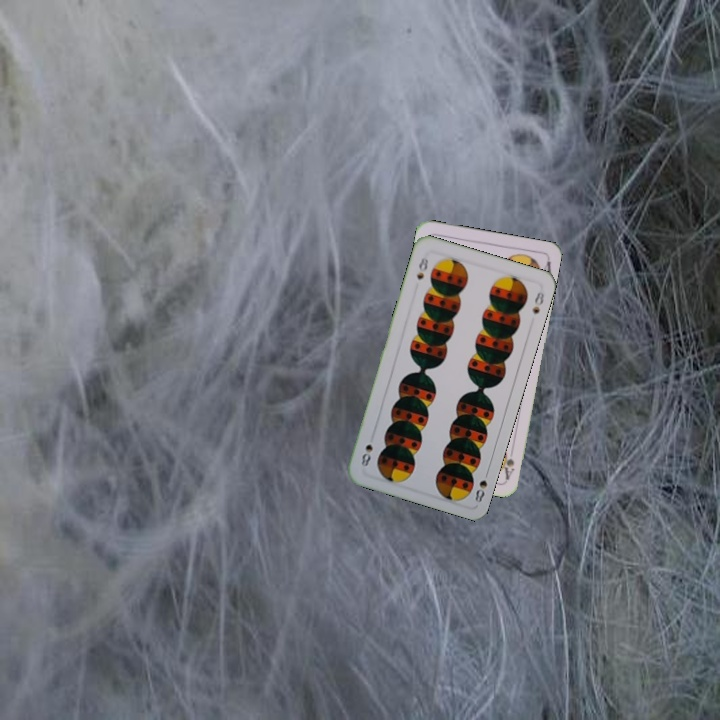S8: (471, 466, 492, 505), (413, 252, 432, 282)
SA: (498, 441, 517, 482)
